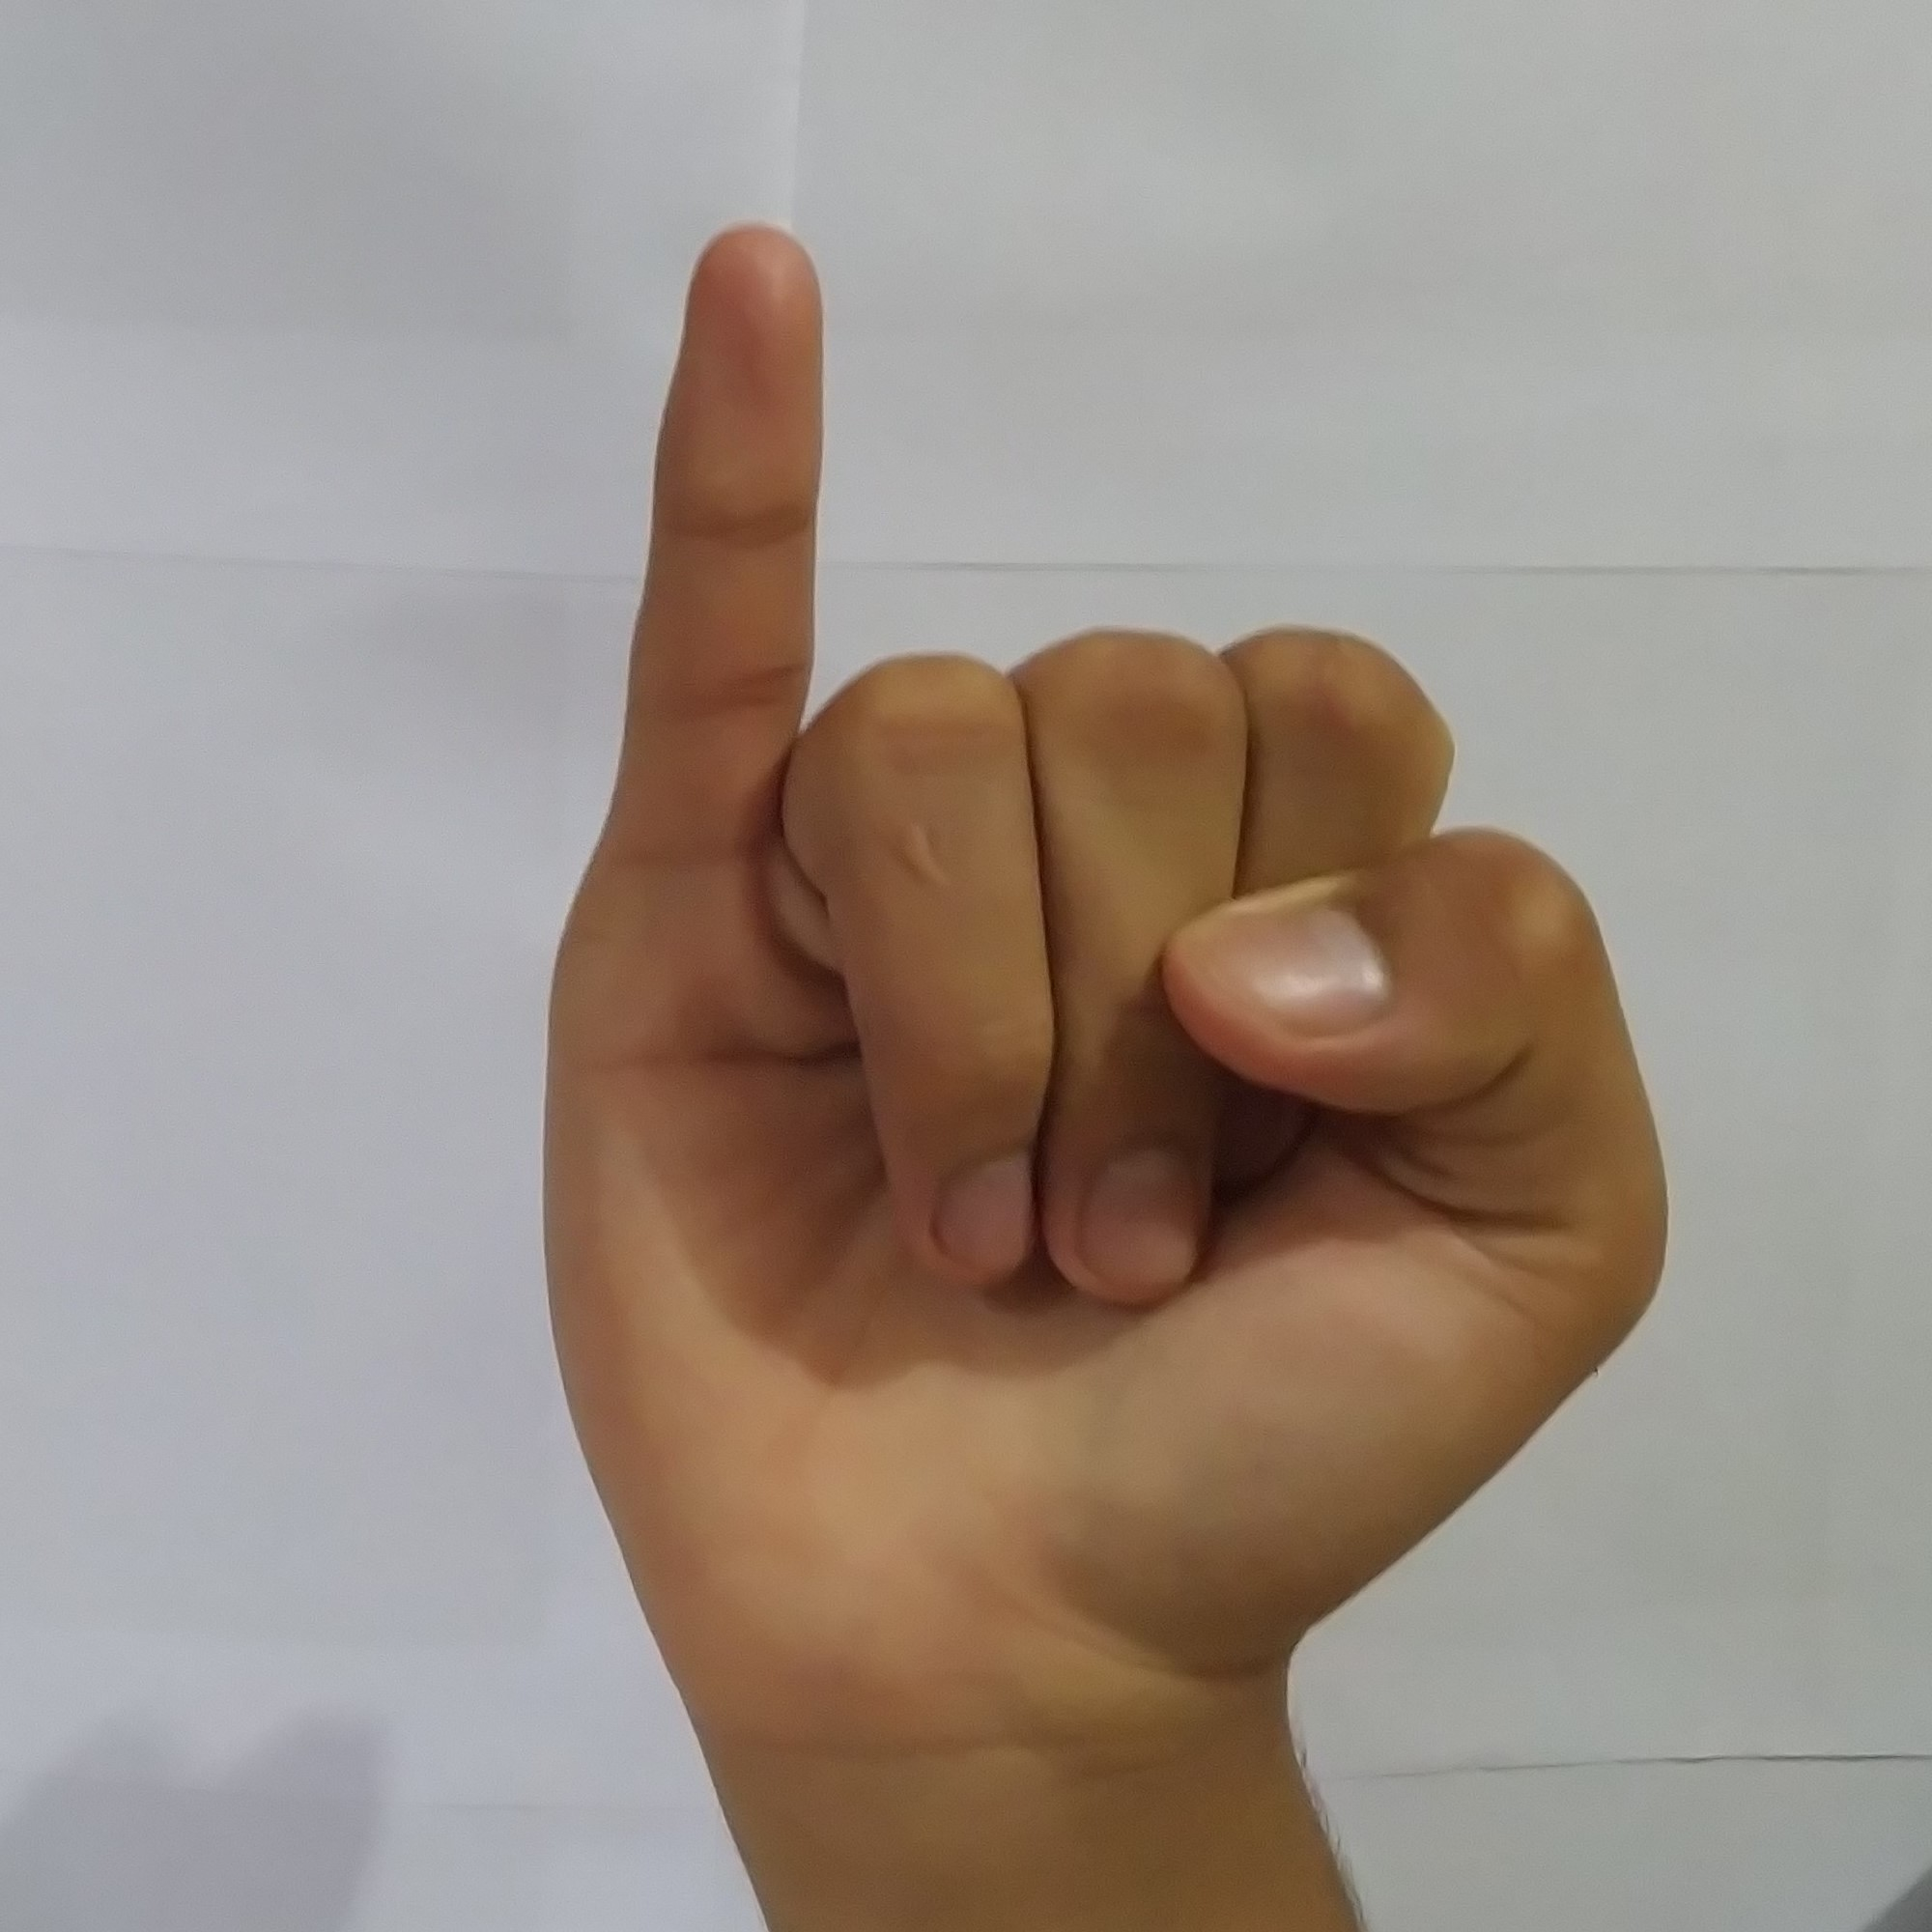I: (511, 195, 1700, 1679)
